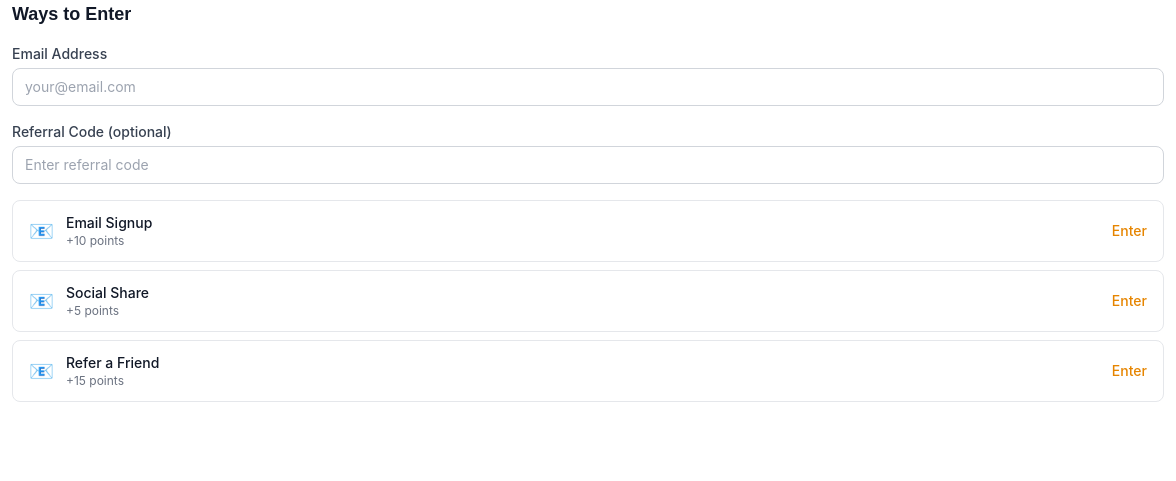
Test: GiveawayEntryForm › shows success message after successful entry
The width and height of the screenshot is (1176, 481).
Click the button with test id "entry-method-social_share": {"x": 108, "y": 292} [12,270,1164,332]
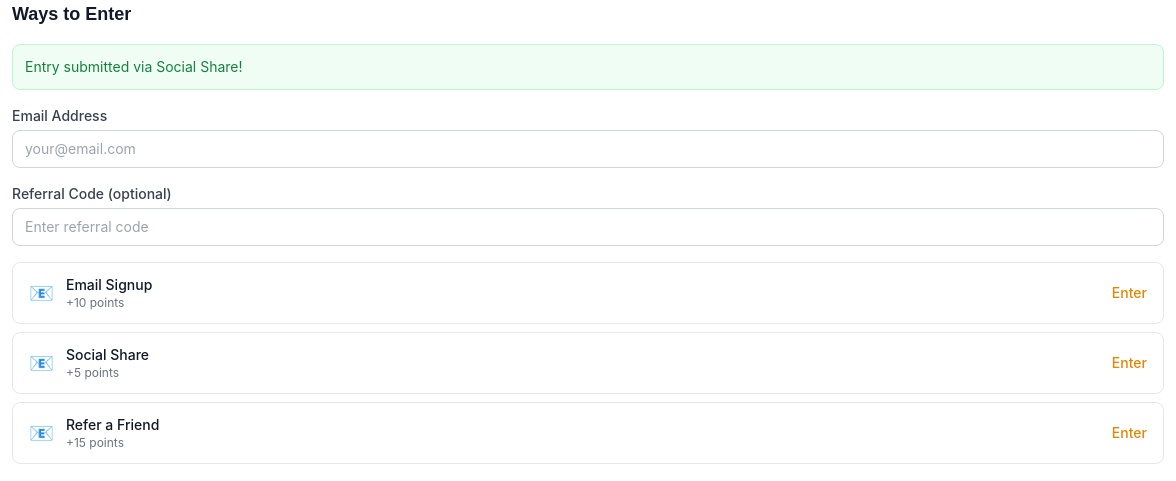
Expected: the text "Entry submitted via Social Share!" is shown, [12,44,1164,90]
